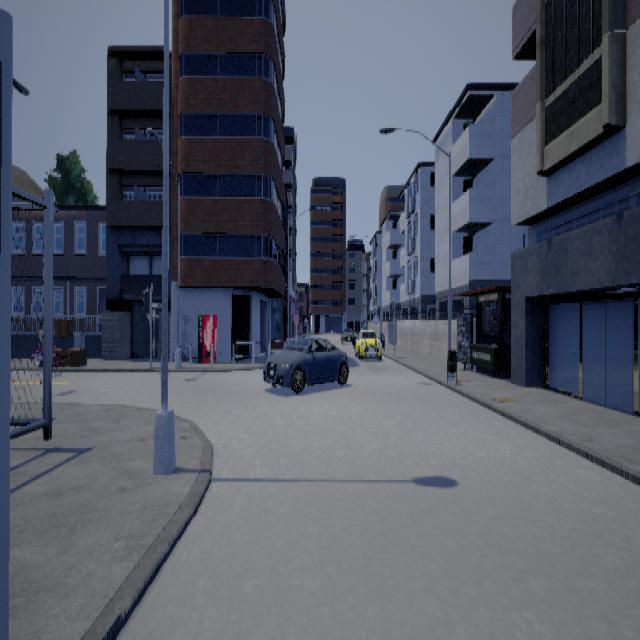traffic_sign: (294, 312, 301, 324)
vehicle: (264, 335, 351, 393), (355, 327, 383, 360)
